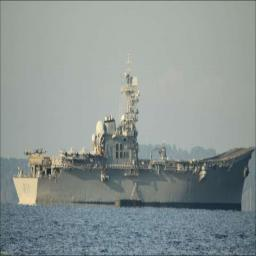Portanaves: (12, 67, 256, 211)
